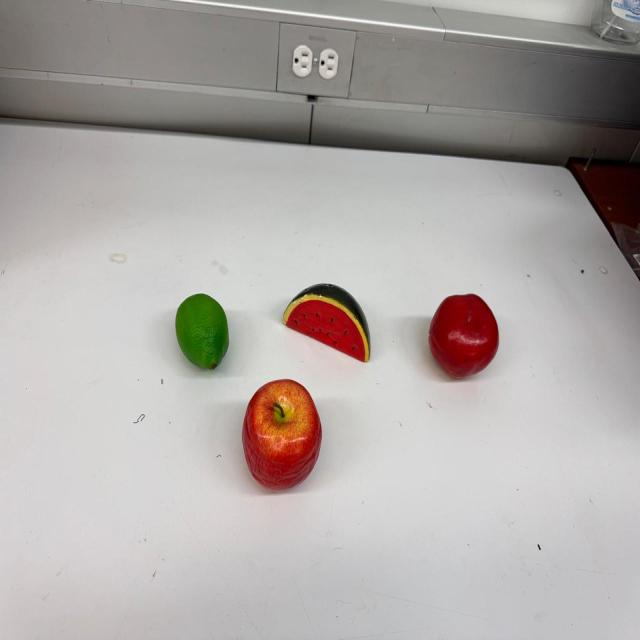apple: (242, 378, 322, 490)
lemon: (175, 294, 229, 369)
tomato: (427, 293, 499, 379)
watermelon: (282, 283, 370, 364)
